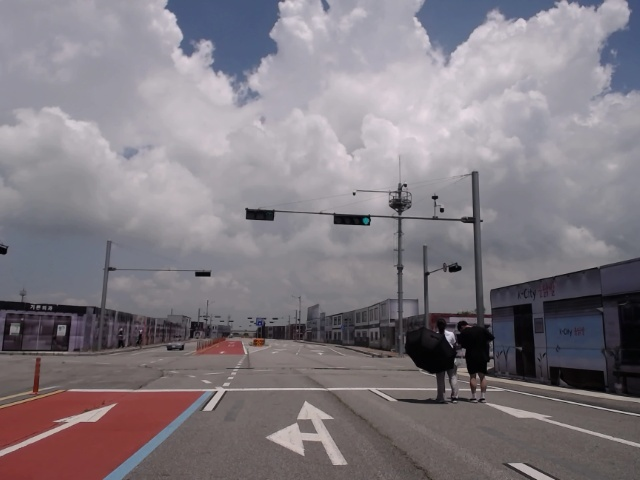straight_green_4: (333, 214, 372, 226)
